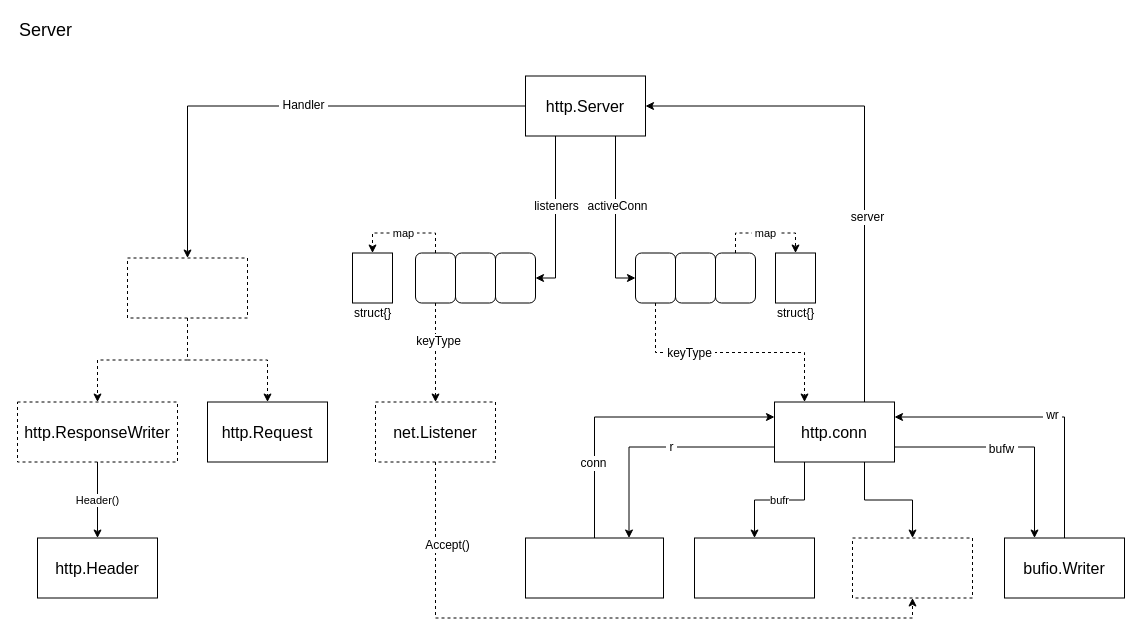
This 1142x643 diagram has some shape labels left out. Here are the shapes that lost their labels. From the top down, the centre of each, then its label:
pixel 187 287: http.Handler
pixel 594 567: http.connReader
pixel 754 567: bufio.Reader
pixel 912 567: net.Conn
